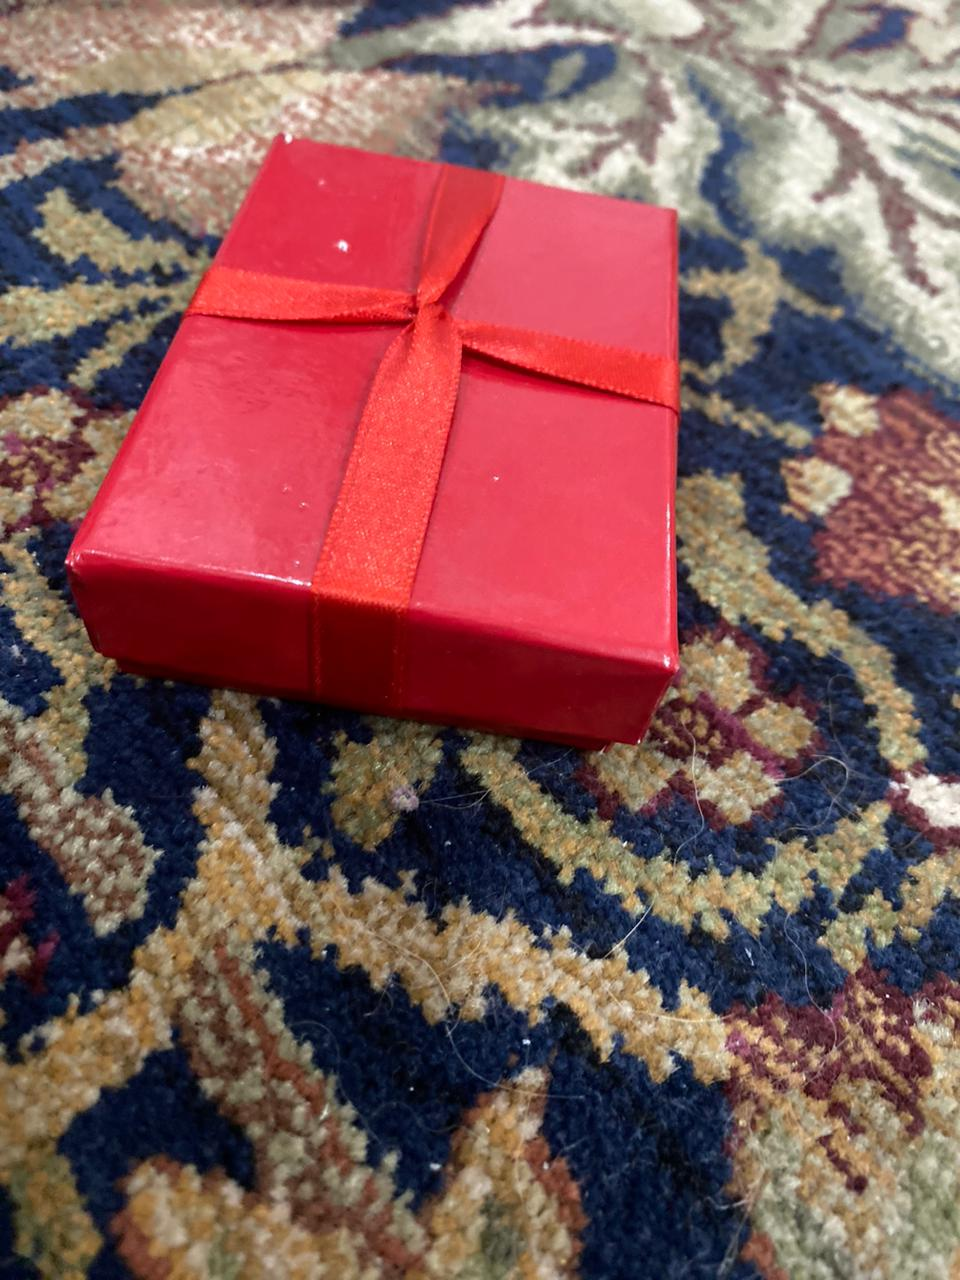Red Box: (72, 133, 684, 761)
